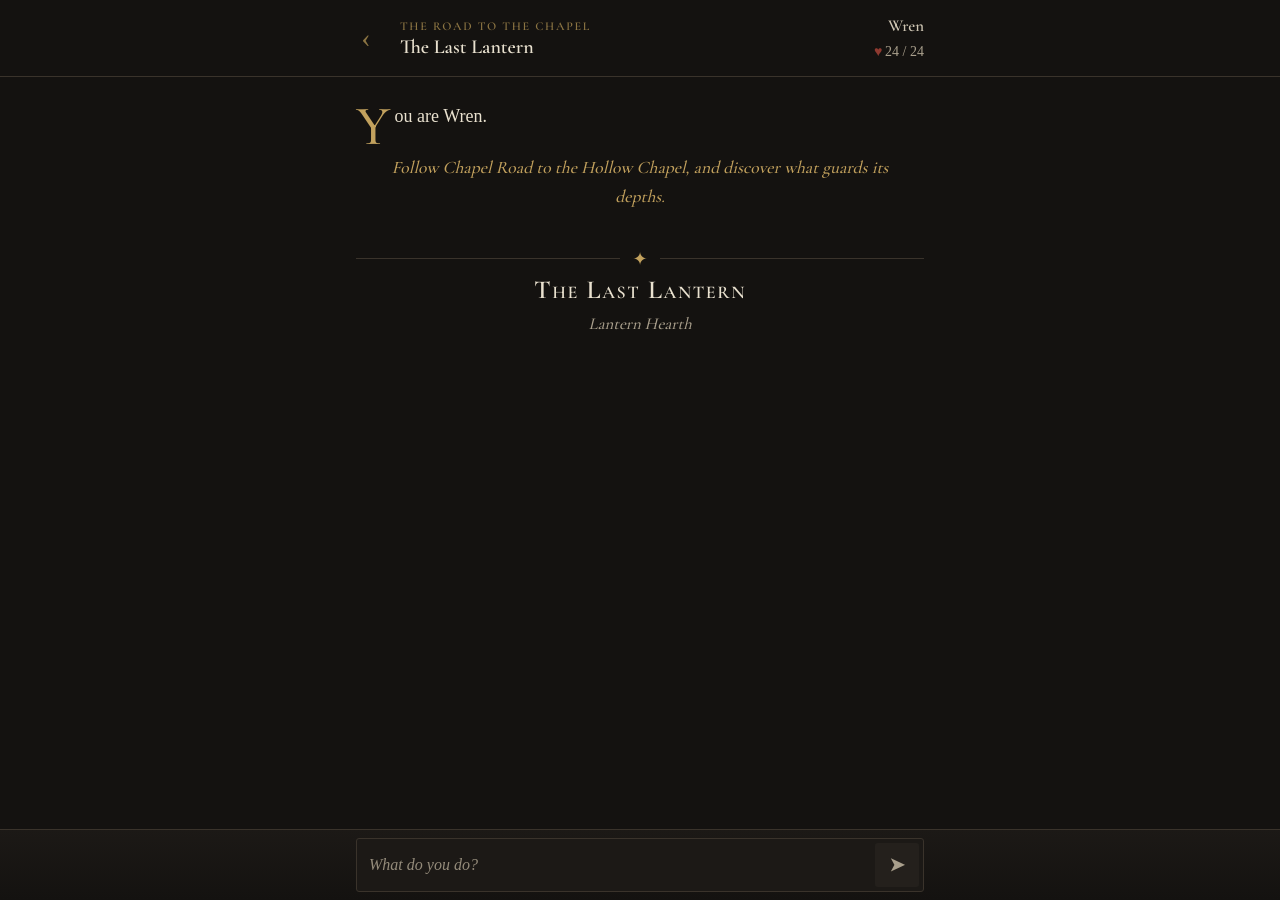
Test: playing a turn › persists the request before the POST leaves
Check: the element named "Introduction" is shown, box [356,92,487,160]
Type "I wait." into the text box named "Your action". click: [618, 865]
box: [369,843,867,887]
Then press Enter
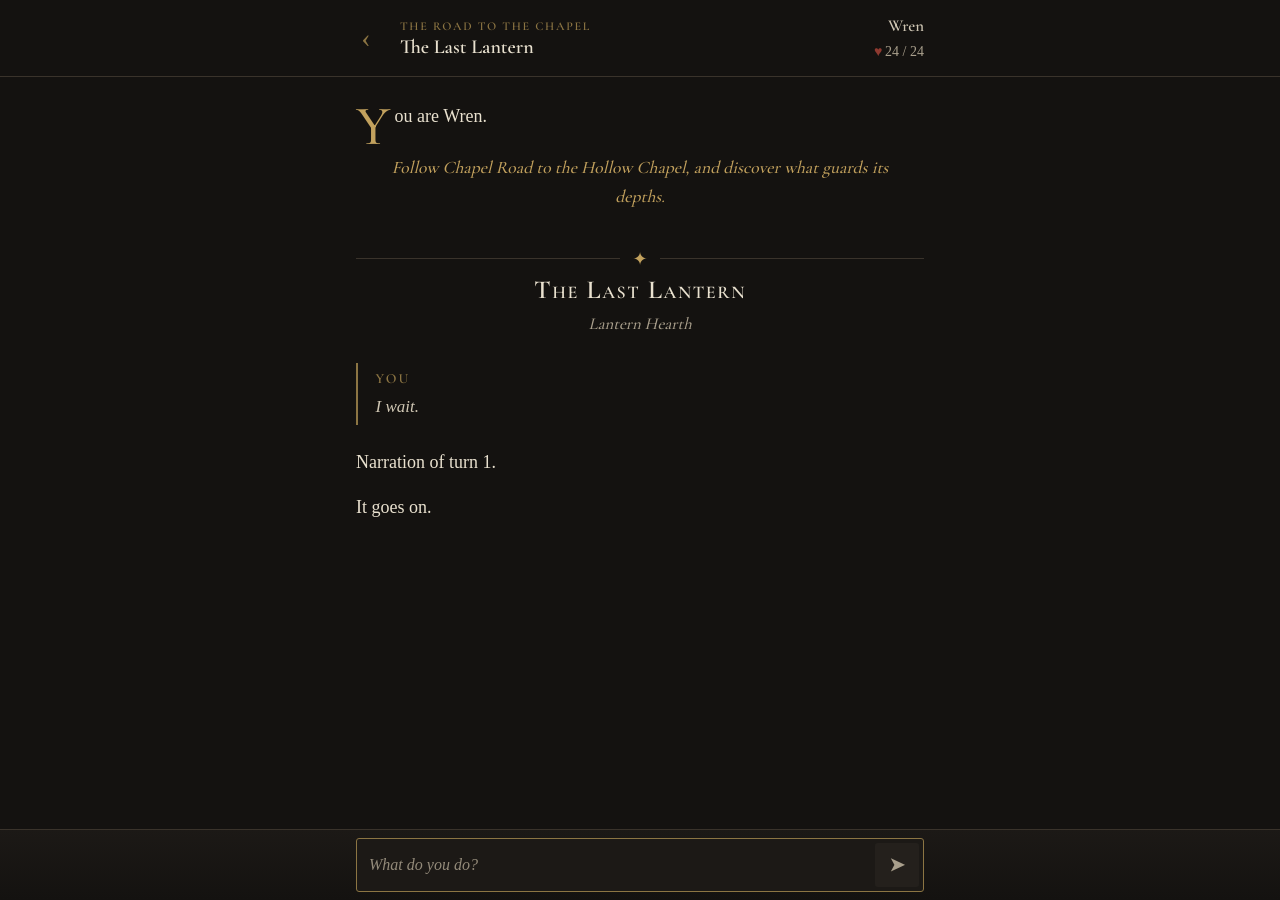
Check: the text "Narration of turn 1." is shown, box [356,452,496,472]
